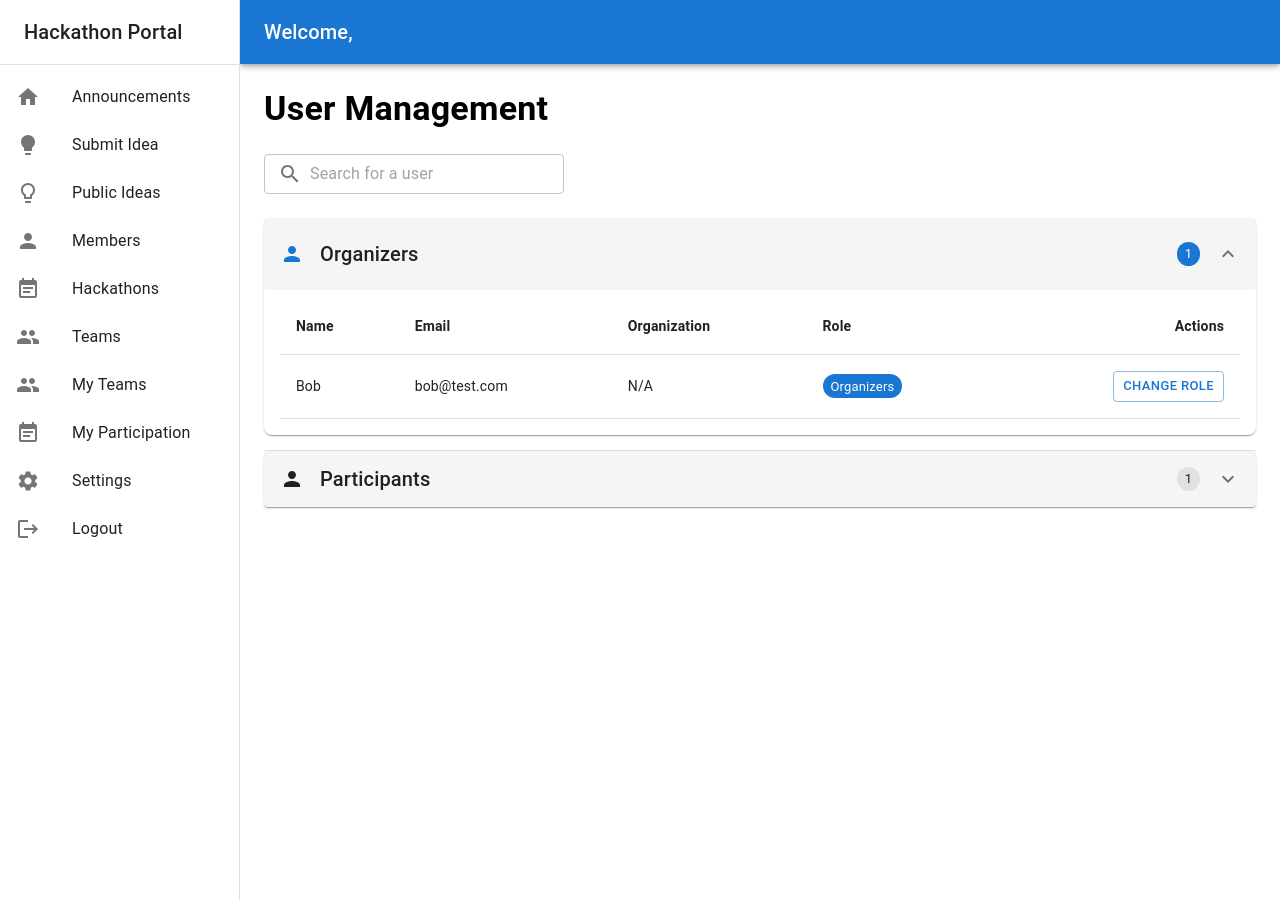
Test case: UserManagementPage › filters users based on search input
The image size is (1280, 900).
Expected: the text "Bob" is shown, top-left (280, 354), bottom-right (399, 418)
Type "alice" into the field with placeholder "Search for a user" at (437, 174), box top-left (310, 154), bottom-right (564, 194)
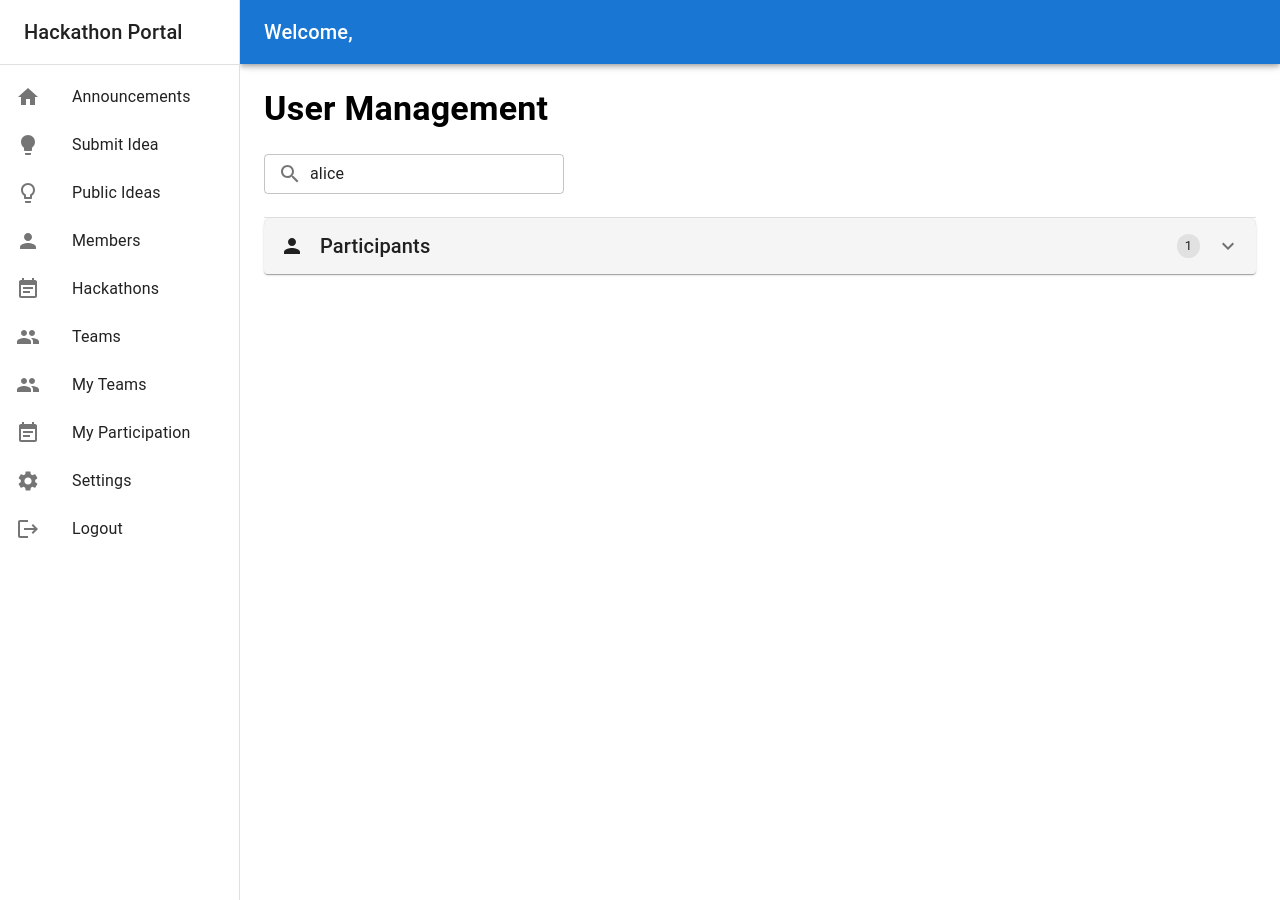
Expected: the text "Bob" is gone
